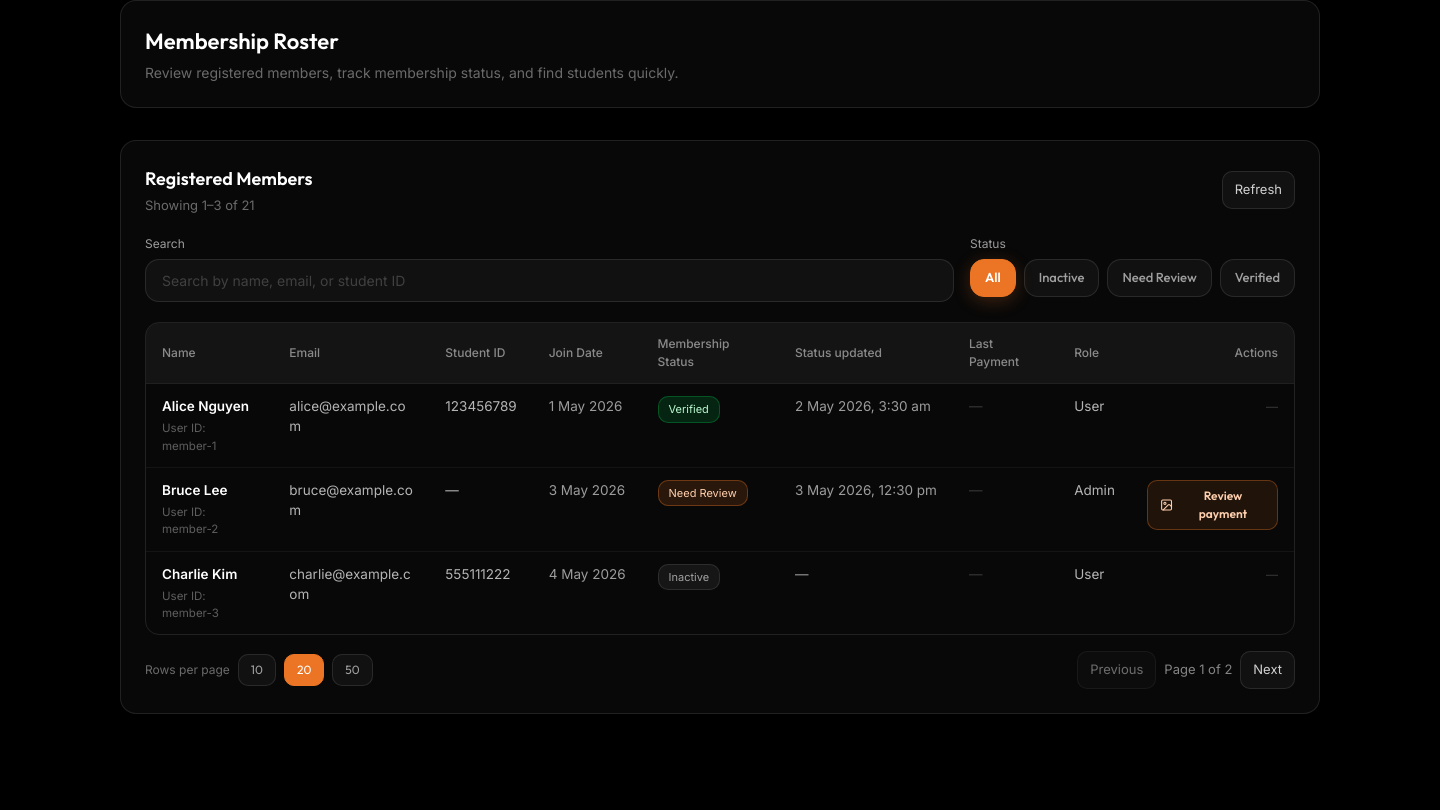
Test: Admin membership roster › does not refetch on every keystroke and sends the search query after debounce
(page scrolled)
Expected: the text "Alice Nguyen" is shown, [162,396,257,416]
Click the button "Next" at (1268, 670), box [1240,651,1295,689]
(page scrolled)
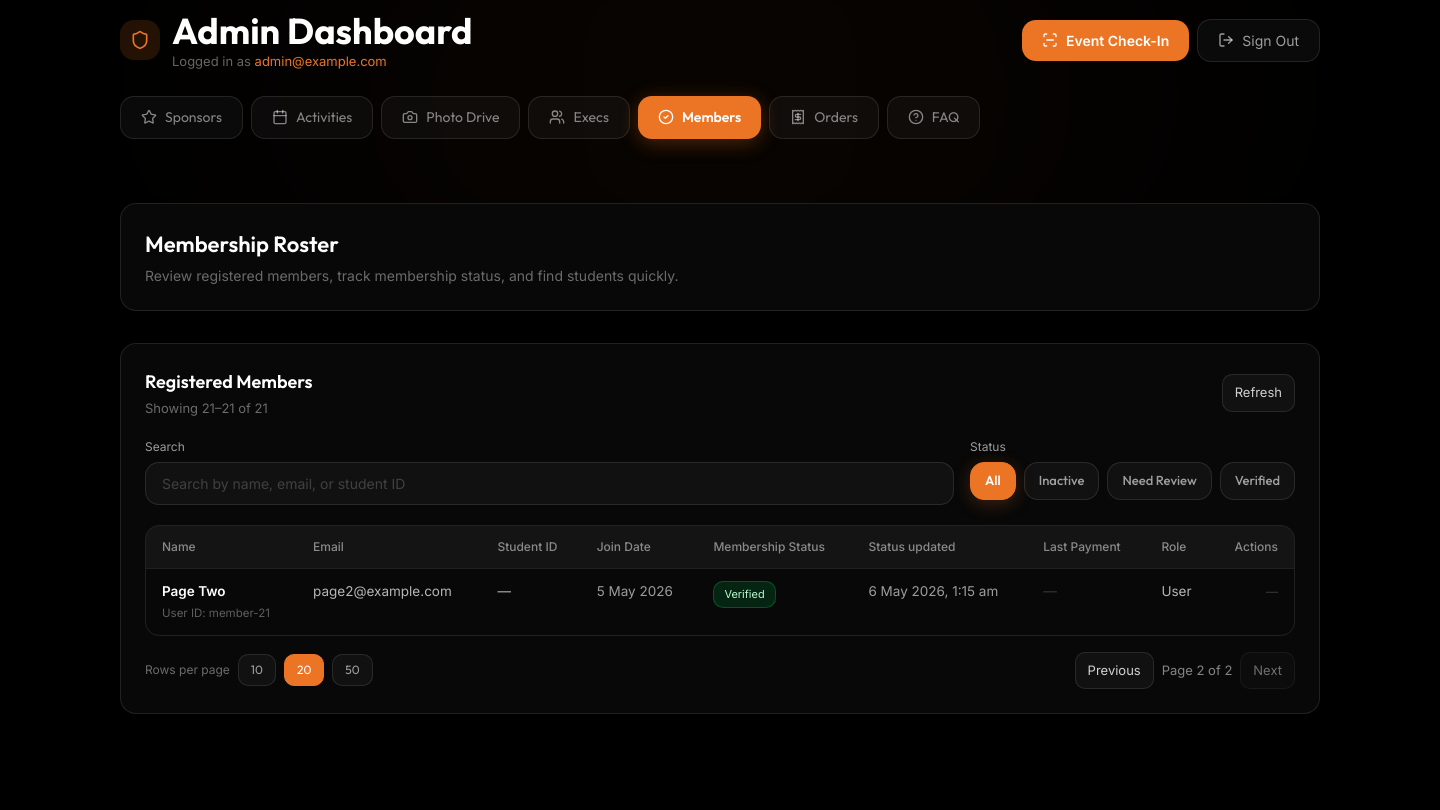
Now the text "Page Two" is shown, box [162,583,226,599]
Type "a" into the field with placeholder "Search by name, email, or student ID" at (550, 484), box [145,462,954,505]
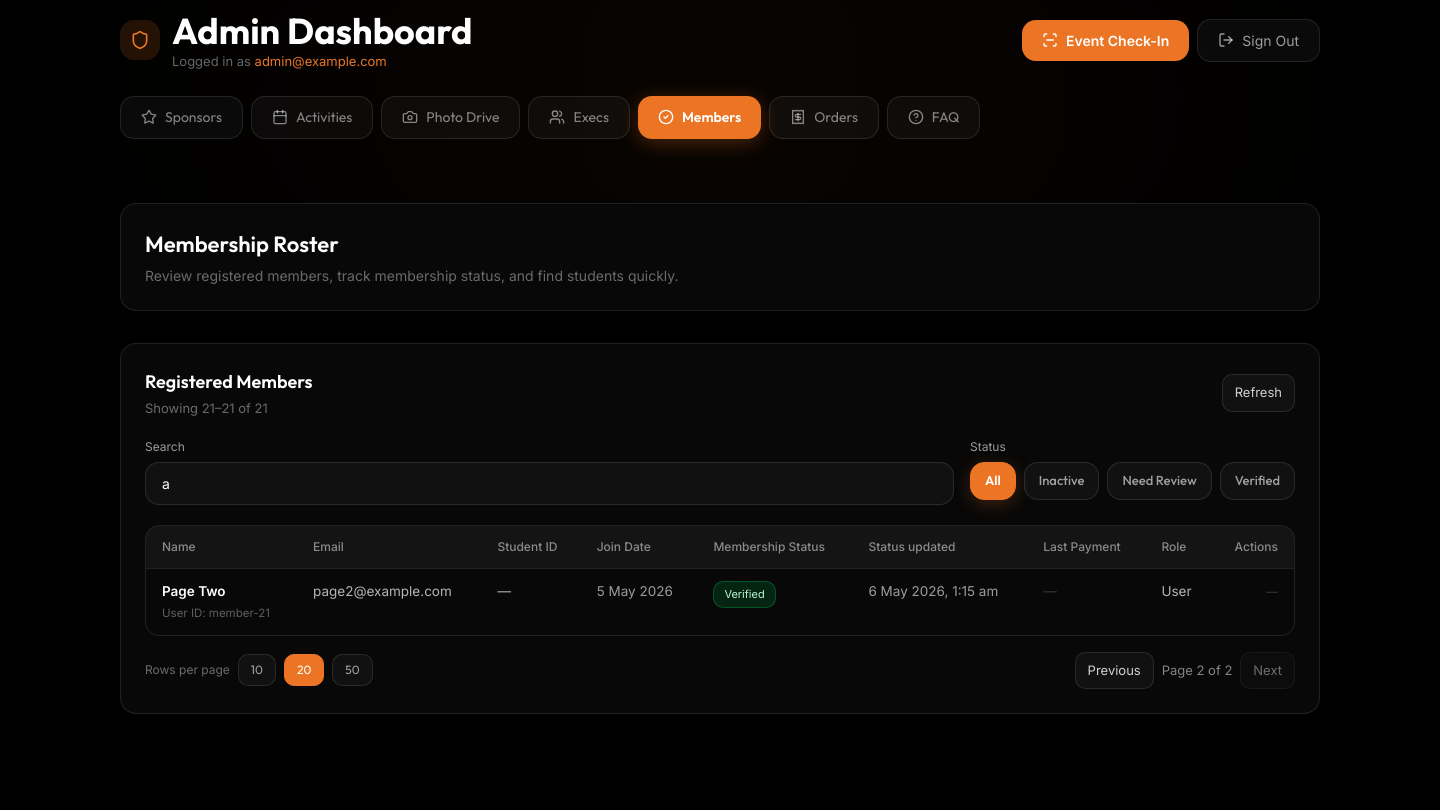
Replace the text in the field with placeholder "Search by name, email, or student ID" with "al" at (550, 484), box [145,462,954,505]
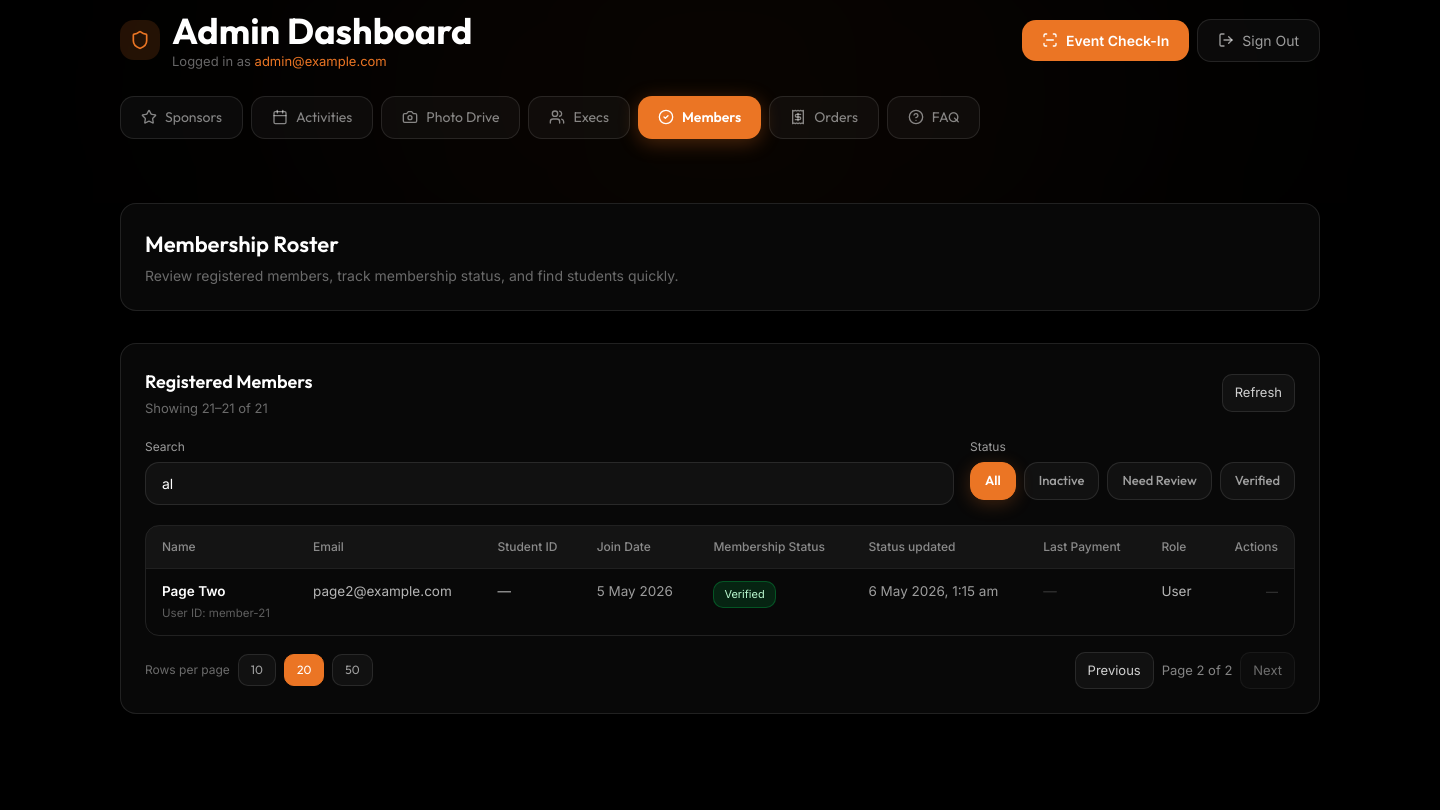
Replace the text in the field with placeholder "Search by name, email, or student ID" with "alice" at (550, 484), box [145,462,954,505]
Wait 300 ms
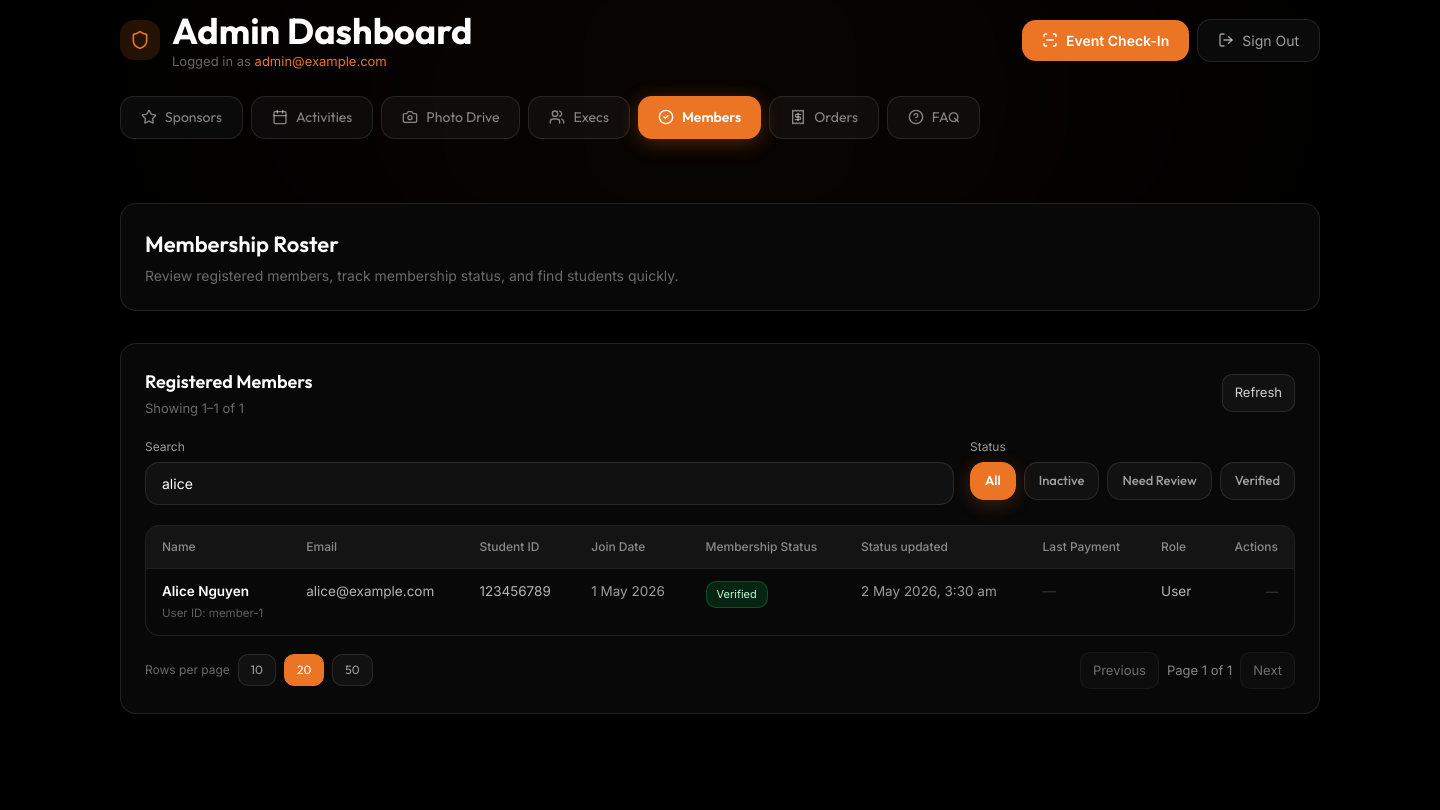
Now the text "Alice Nguyen" is shown, box [162,583,249,599]
Now the text "Page Two" is gone
